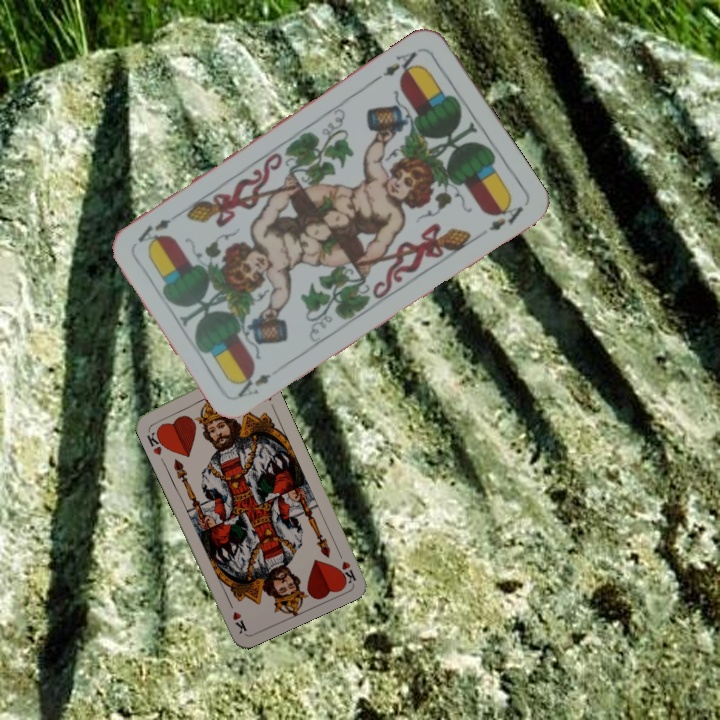EA: (371, 47, 423, 84), (231, 367, 274, 400)
HK: (333, 545, 359, 586), (143, 424, 168, 458)
